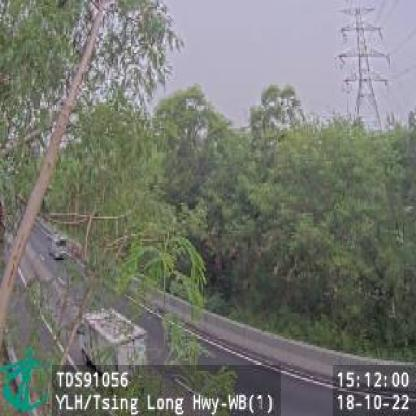Car: (50, 234, 66, 260)
Truck: (75, 306, 152, 388)
